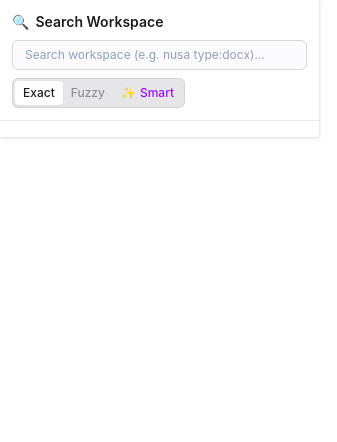
Test case: SearchPanel & Realtime Search UI › Renders match sources badges and snippets
Step 1. Type "nusa" into the field with placeholder "Search workspace (e.g. nusa type:docx)..." → (160, 55), box x1=12 y1=40 x2=307 y2=70
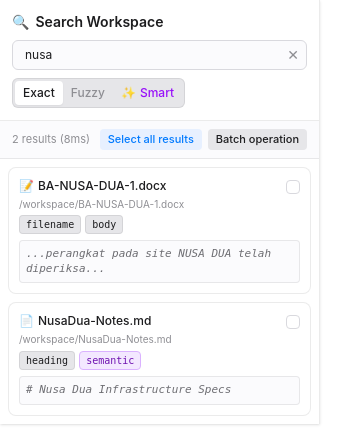
Check: the text "BA-NUSA-DUA-1.docx" is shown, box x1=38 y1=178 x2=166 y2=192
Check: the text "filename" is shown, box x1=19 y1=215 x2=81 y2=234
Check: the text "body" is shown, box x1=85 y1=215 x2=123 y2=234
